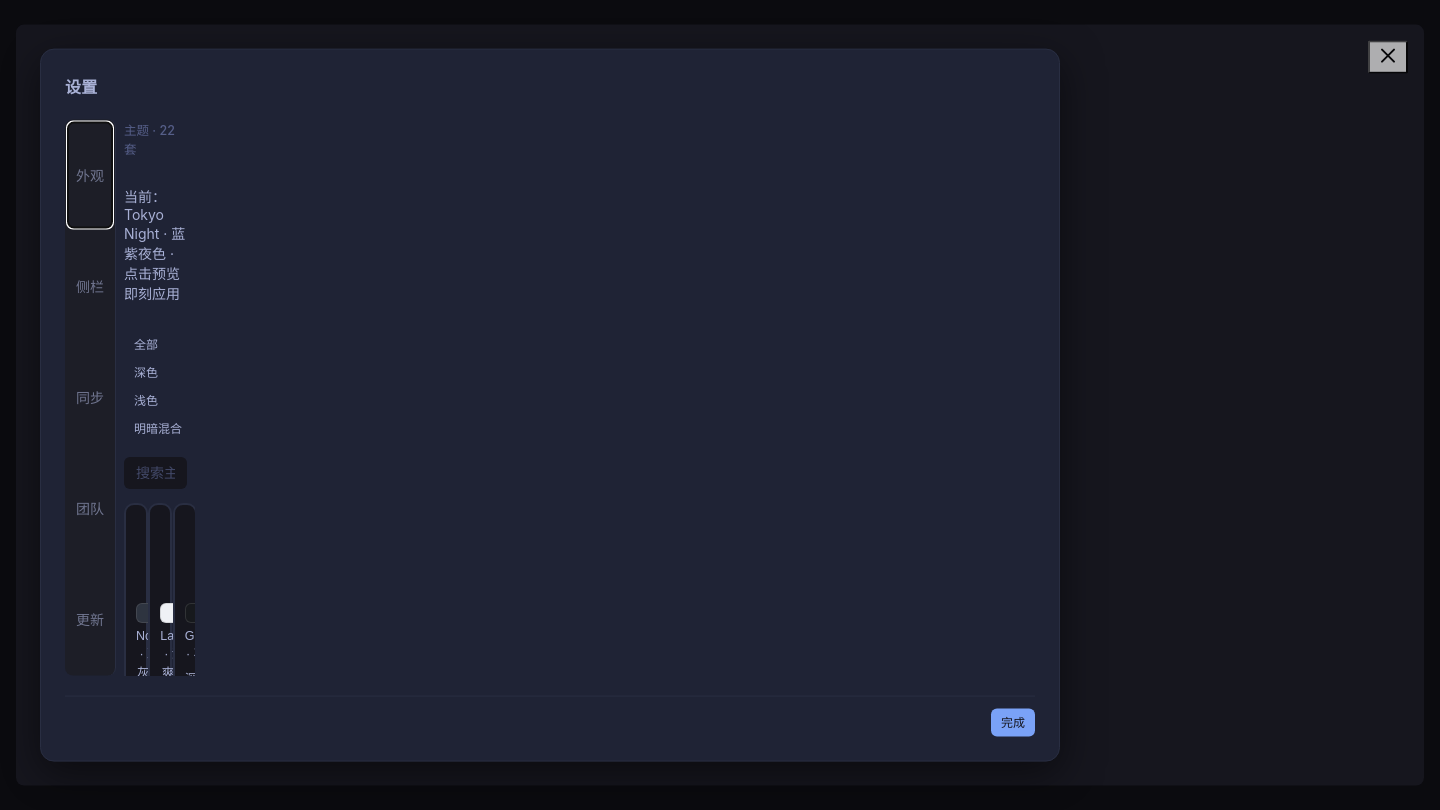
Test: combines team controls and keeps remote agent configuration collapsed
The width and height of the screenshot is (1440, 810).
Press the mouse on the tab "团队": (90, 509) [68,456,112,561]
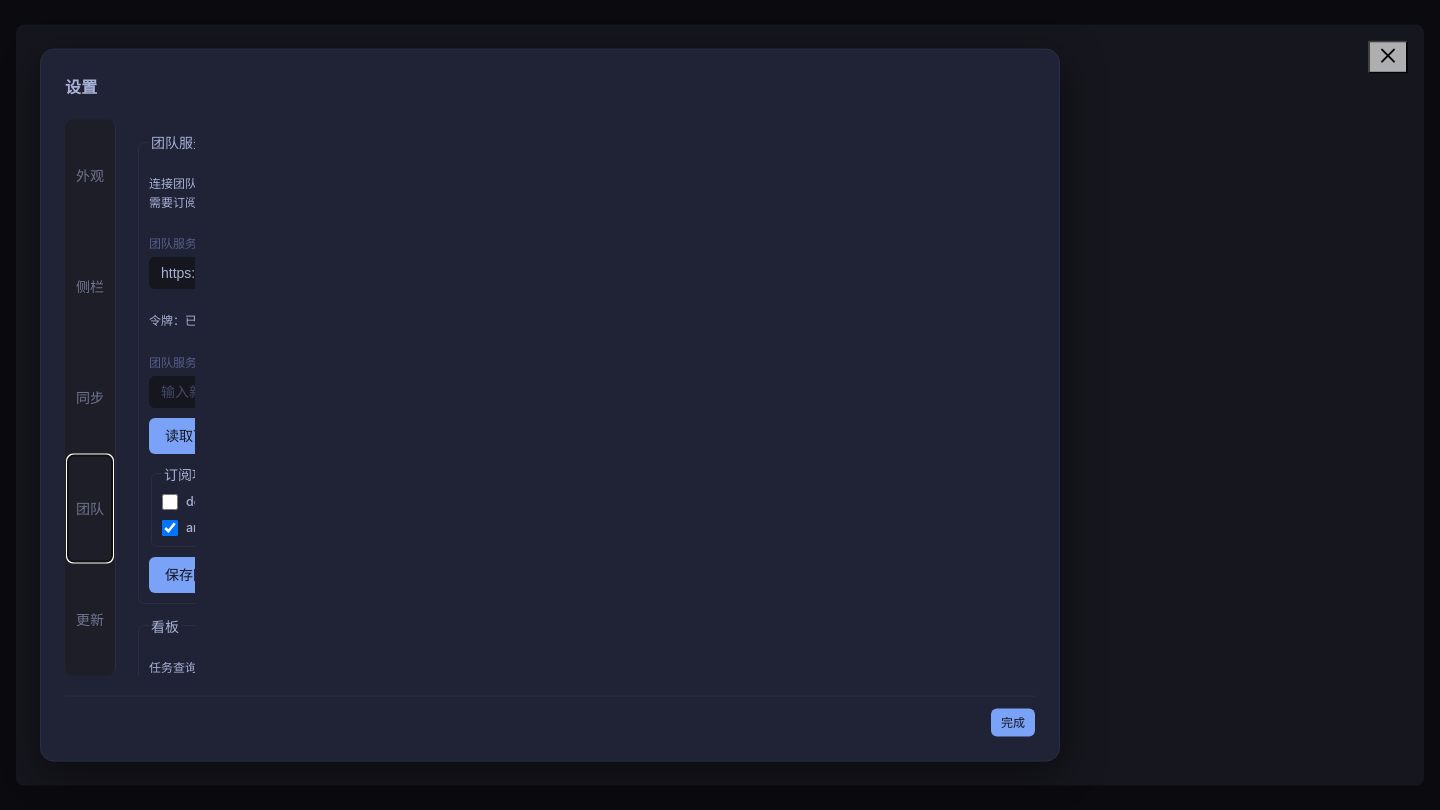
Click the tab "团队": (90, 509) [68,456,112,561]
(page scrolled)
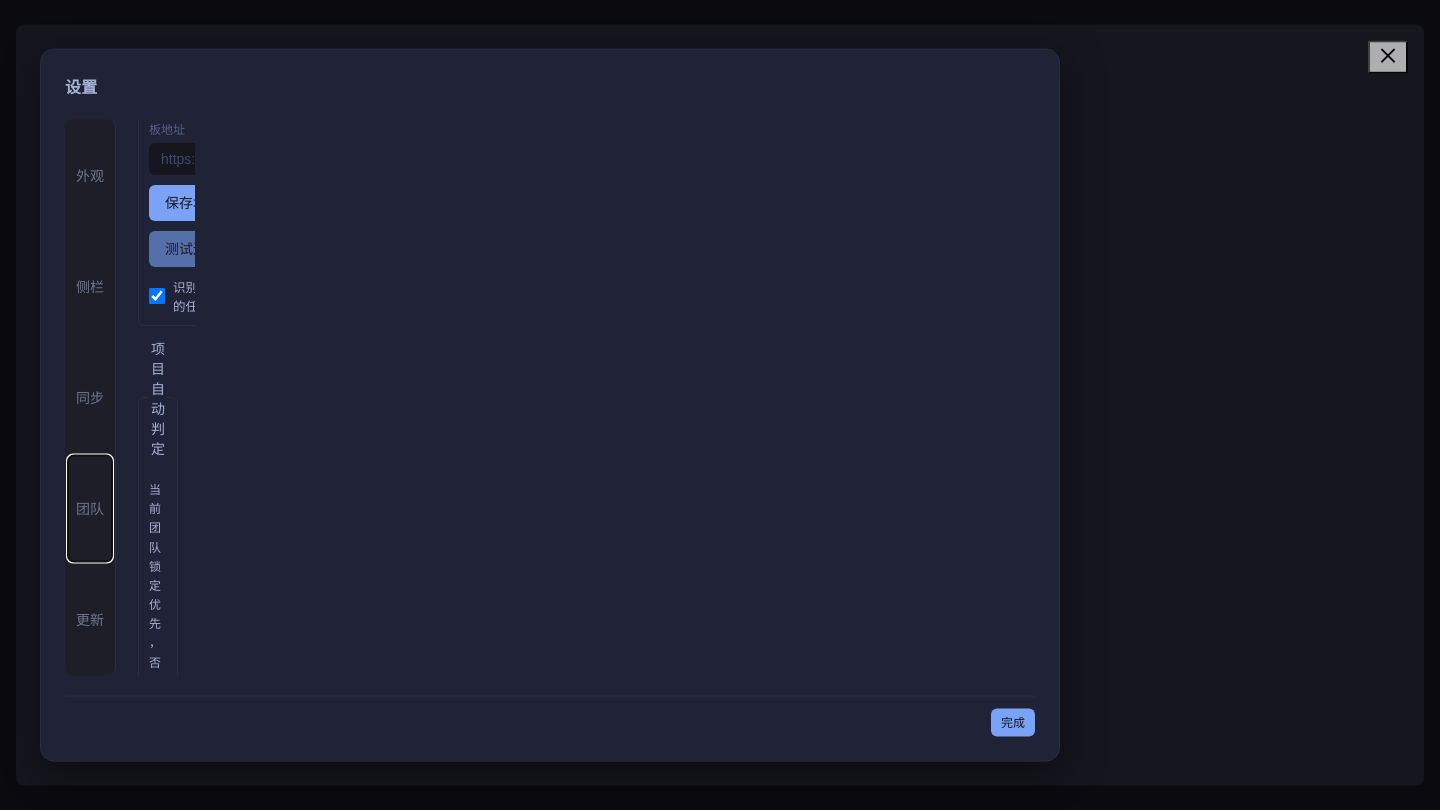
Result: the text "项目自动判定" is shown at [151,340,165,456]
